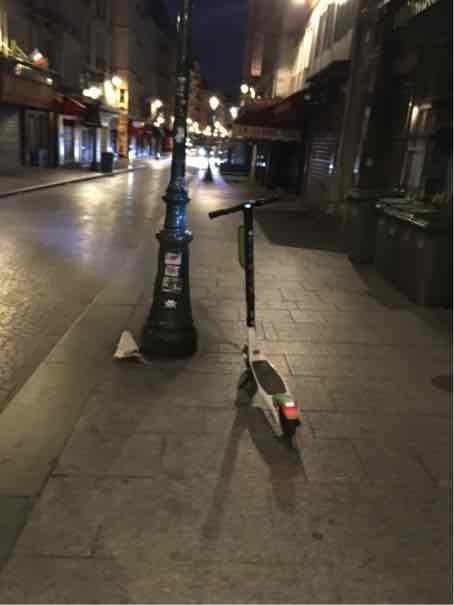scooter: (199, 209, 447, 308)
